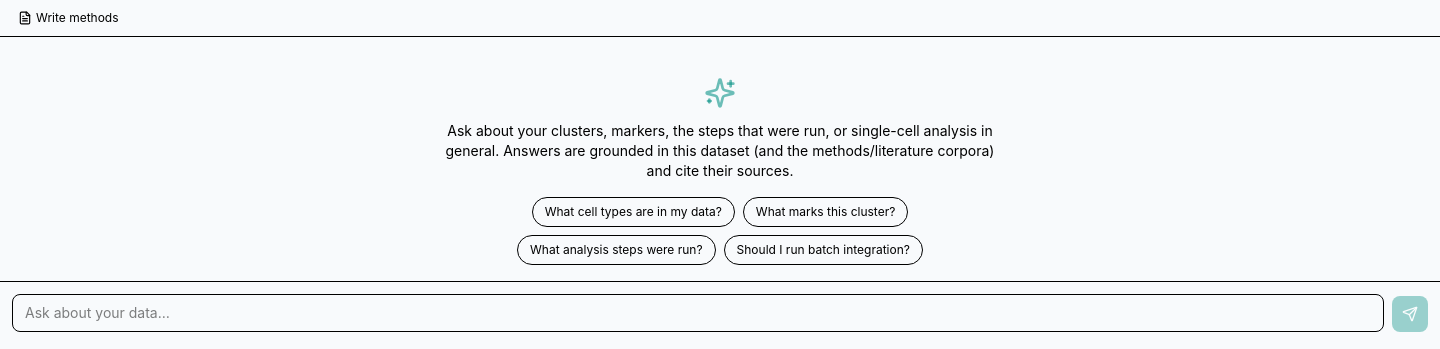
co-pilot plans › Cancel before running drops the plan
Type "color by stim, then detect doublets" into the text box named "Message to the co-pilot".
click(698, 313); type("color by stim, then detect doublets")  # box top-left (12, 294), bottom-right (1384, 332)
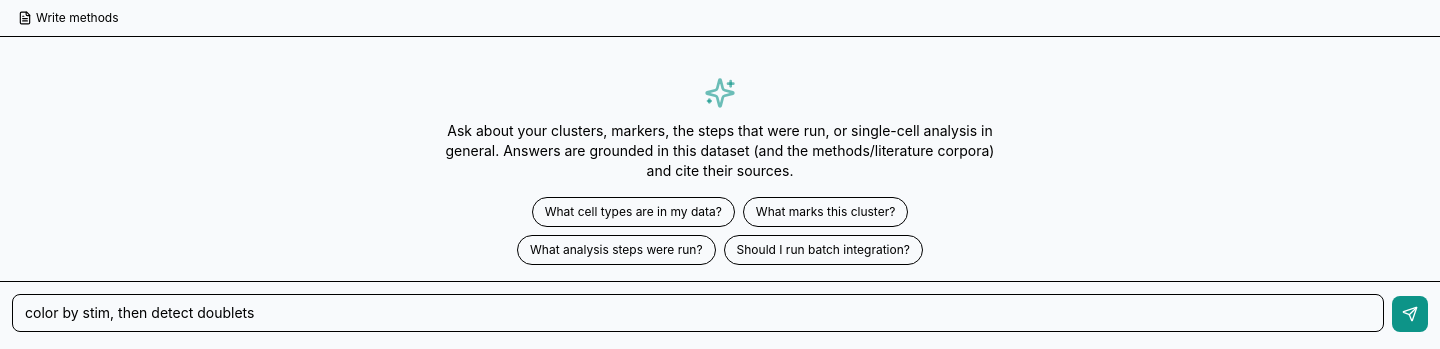
Click the button named "Send".
click(1410, 314)  # box top-left (1392, 296), bottom-right (1428, 332)
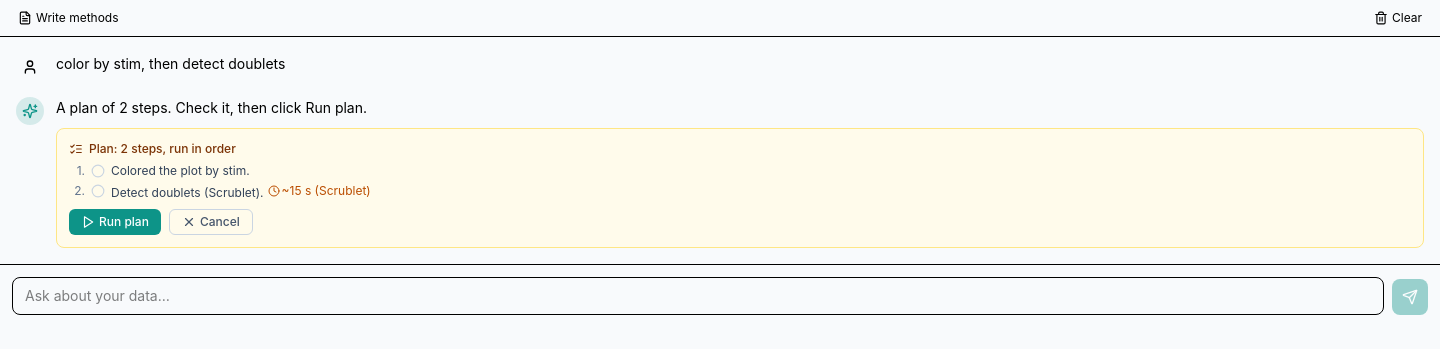
Click the button "Cancel".
click(211, 222)  # box top-left (169, 209), bottom-right (253, 235)
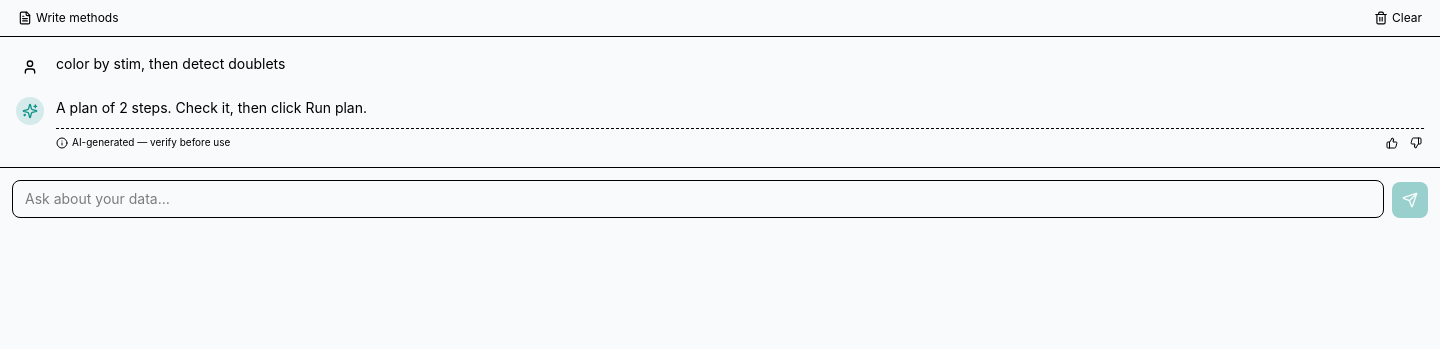
Now the element with test id "copilot-plan" is gone
